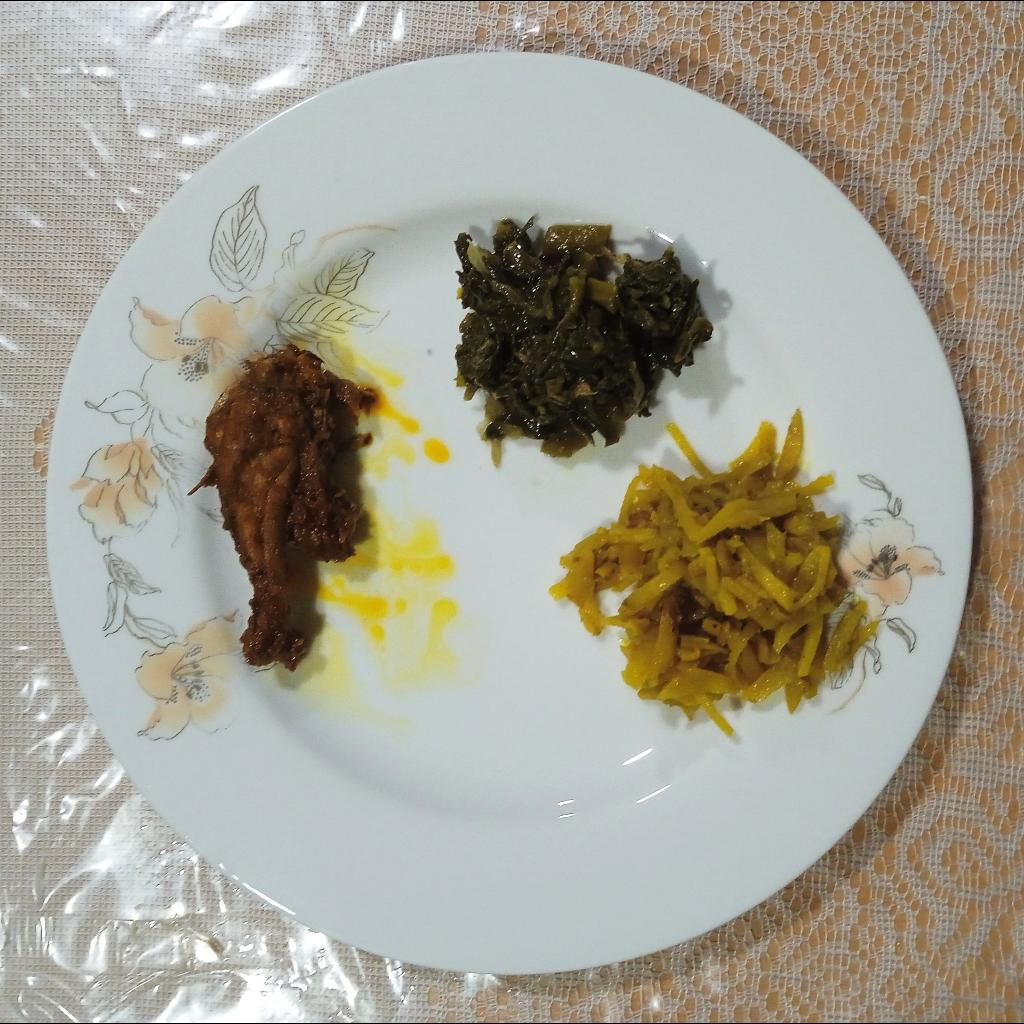chicken: (182, 339, 383, 678)
potato: (547, 411, 877, 747)
shak: (450, 212, 720, 466)
